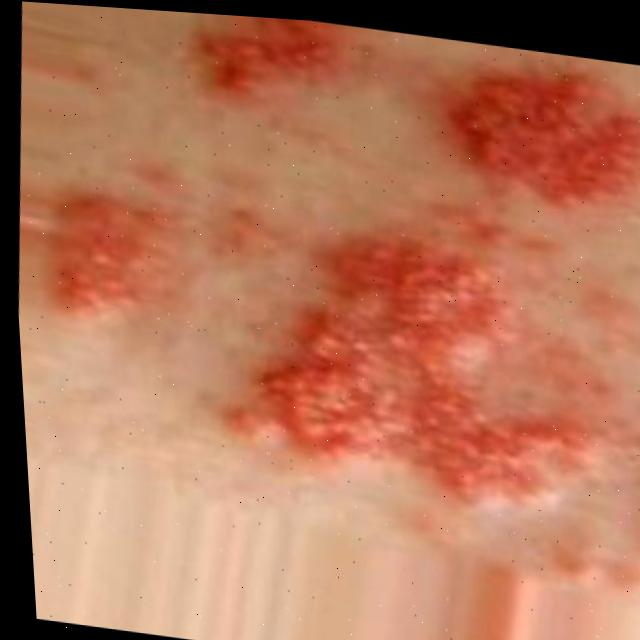Shingles: (222, 226, 589, 510), (459, 56, 638, 223), (45, 177, 173, 327), (190, 13, 364, 102)
